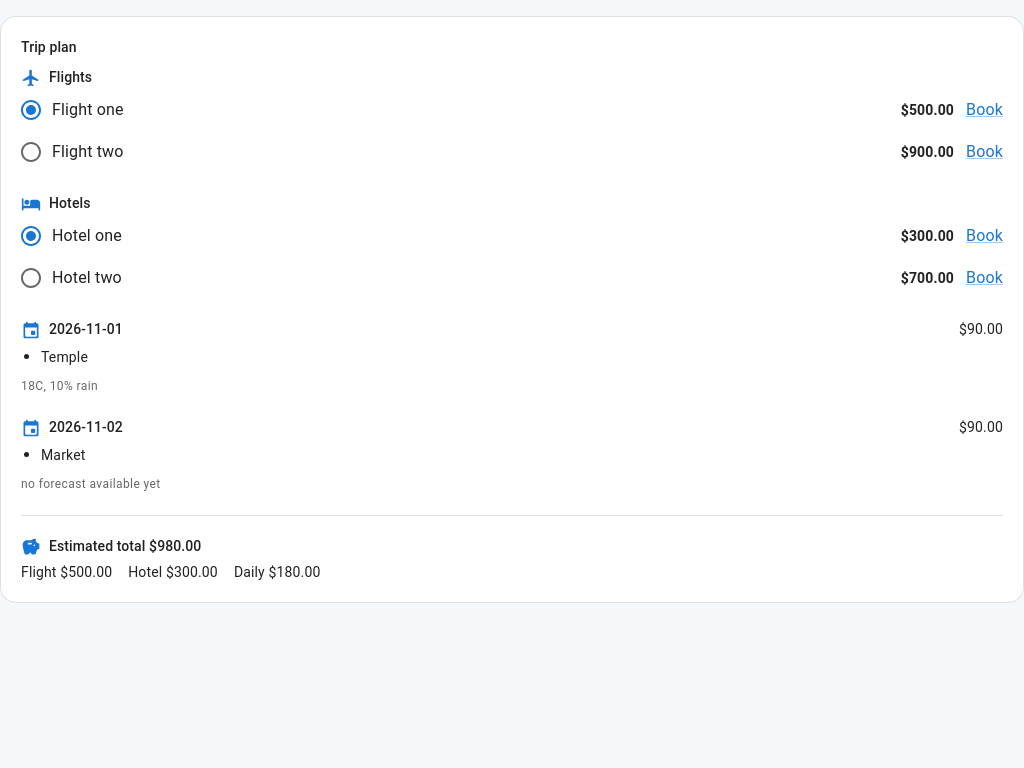
Test: PlanCard › shows an estimated total and never warns when the user set no budget
Check: the heading "Estimated total $980.00" is shown, box [49, 536, 201, 558]
Click the radio button labelled "Flight two". click: {"x": 71, "y": 152}
box: [19, 140, 124, 164]
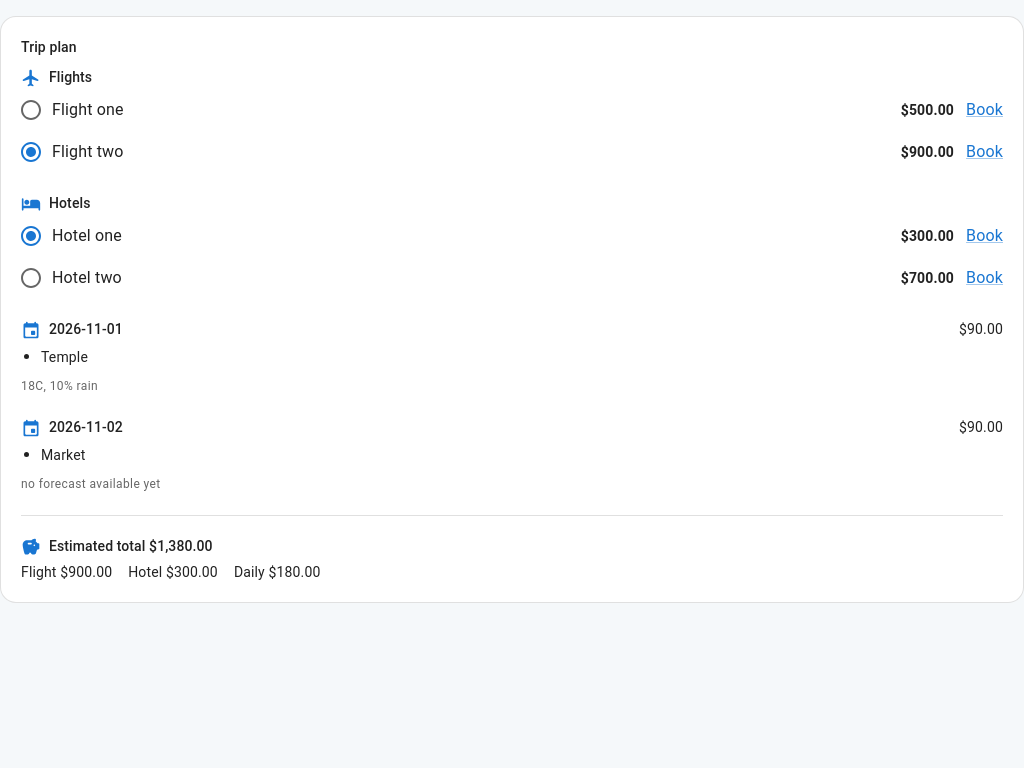
Click the radio button labelled "Hotel two". click: {"x": 70, "y": 278}
box: [19, 266, 122, 290]
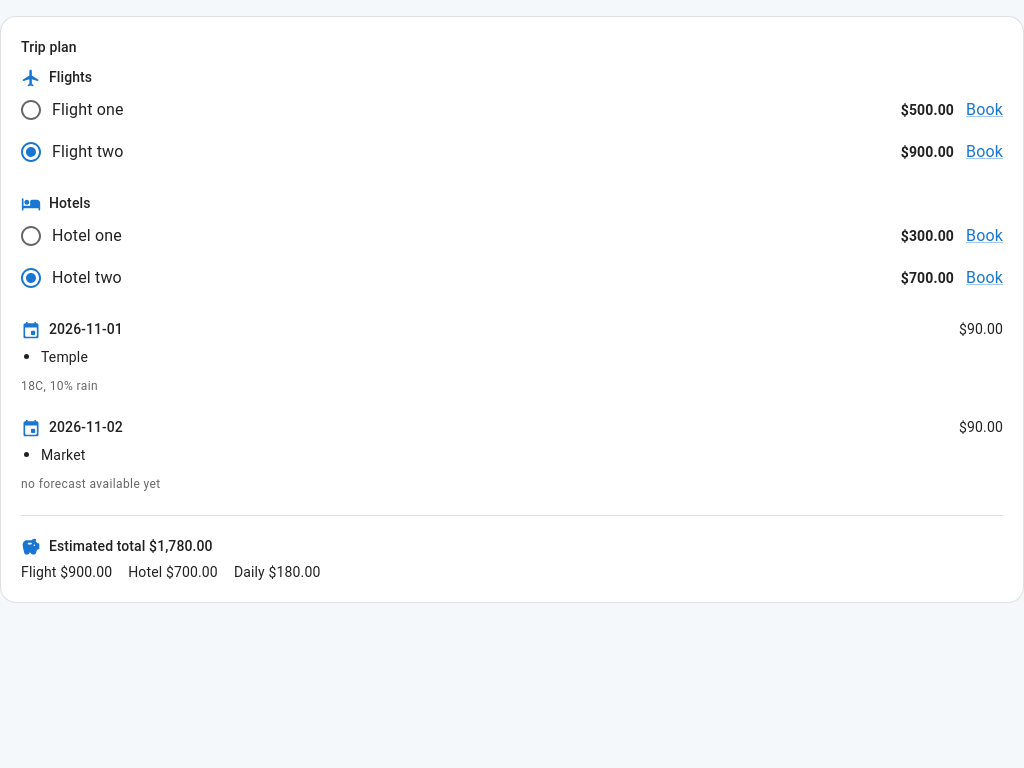
Check: the heading "Estimated total $1,780.00" is shown, box [49, 536, 213, 558]
